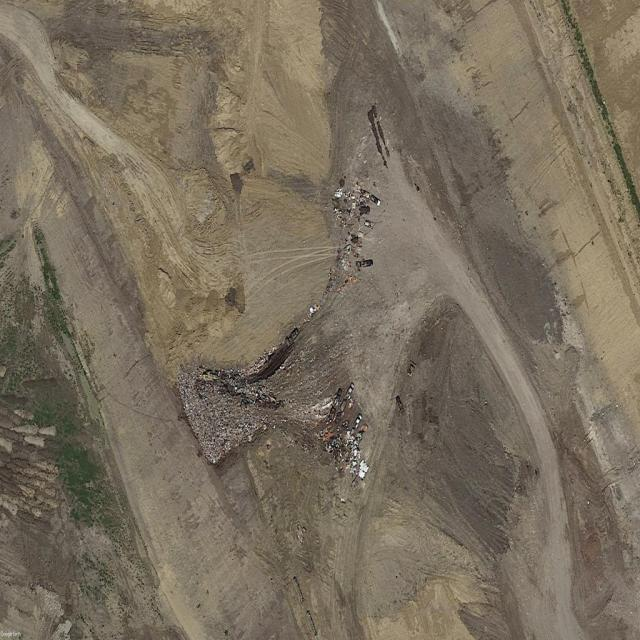dump_site: (172, 301, 319, 470), (311, 375, 389, 502), (330, 177, 383, 295)
